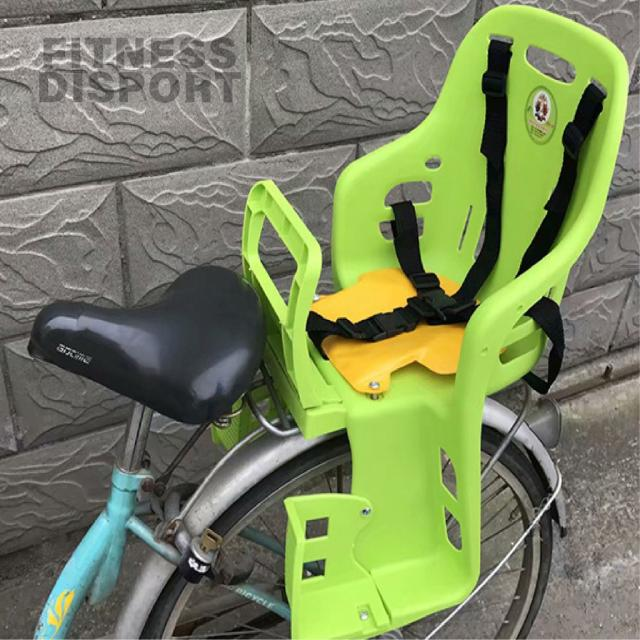childseat: (211, 5, 631, 640)
